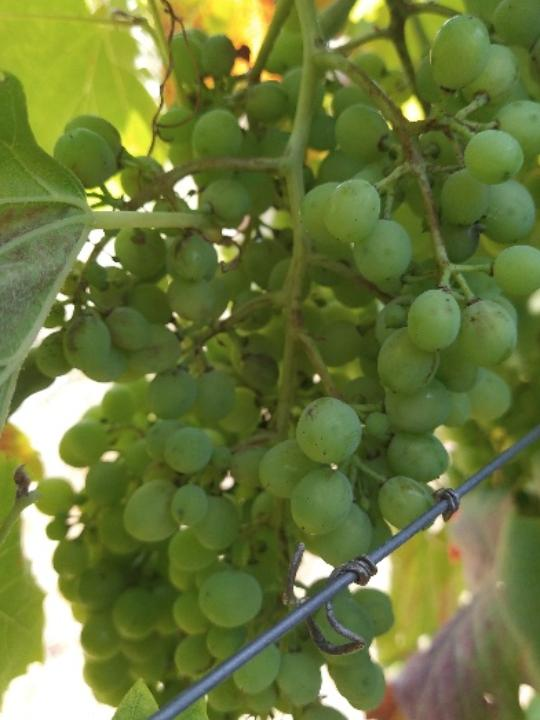grape: (34, 0, 540, 720)
